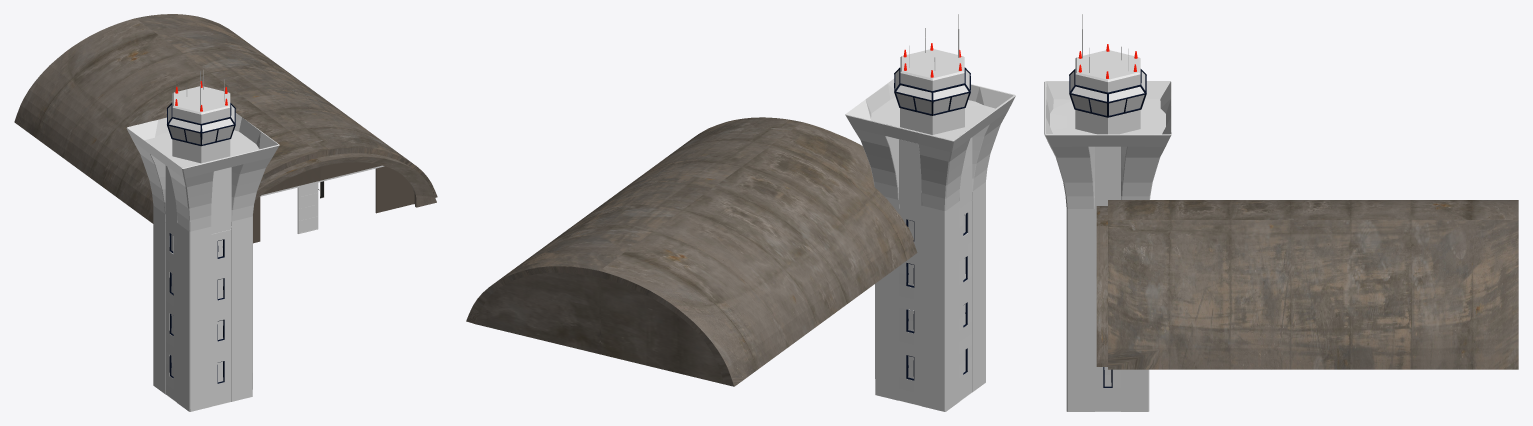
Rendered from hangar_export_05-10-04-47.fbx.
3 views of the same model, side by side, from view 1: azimuth 30°, elevation 25°; view 2: azimuth 150°, elevation 25°; view 3: azimuth 270°, elevation 25° (orthographic). The views are drawn at different scales.
Parts seen in each view (by area): view 1: fundament, control tower, doors_fundament, hangar_door_with_frame_asset, inside_window_frame.001, window_frame; view 2: fundament, control tower, inside_window_frame.001, window_frame; view 3: fundament, control tower, window_frame.
Part boxes in pixels (<box>): fundament: <box>14,14,437,223</box>; control tower: <box>126,86,279,411</box>; doors_fundament: <box>253,162,414,243</box>; hangar_door_with_frame_asset: <box>297,182,318,233</box>; inside_window_frame.001: <box>169,233,224,383</box>; window_frame: <box>167,103,235,146</box>; fundament: <box>466,117,917,386</box>; control tower: <box>845,49,1015,411</box>; inside_window_frame.001: <box>906,213,967,380</box>; window_frame: <box>894,67,970,115</box>; fundament: <box>1096,200,1518,369</box>; control tower: <box>1044,50,1171,411</box>; window_frame: <box>1069,69,1146,117</box>.
Bounding box in the file's own units: 3587 × 4006 × 4619.
